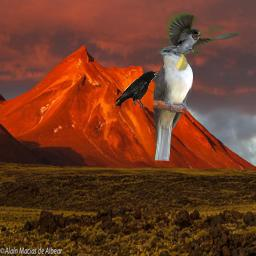Crow: (114, 70, 159, 109)
Cuckoo: (151, 45, 193, 161)
Swallow: (161, 13, 239, 54)
